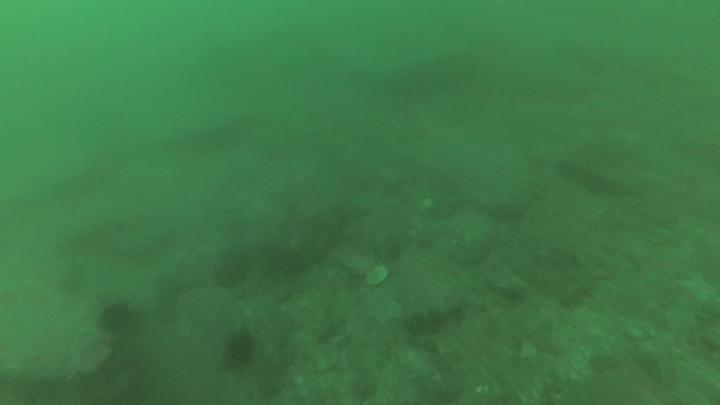echinus: (226, 339, 256, 366), (101, 306, 132, 331)
scallop: (365, 267, 390, 288), (419, 201, 433, 212)
